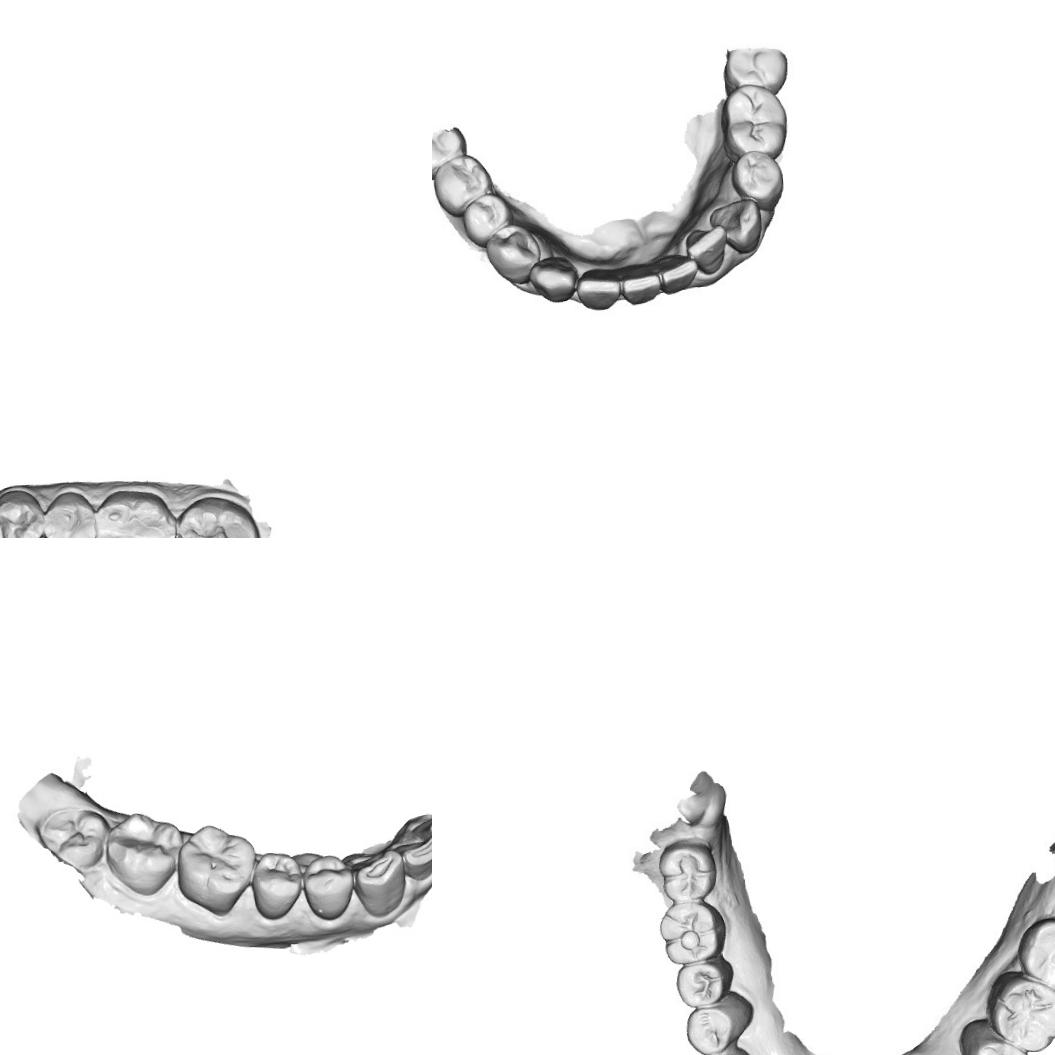canine: (350, 846, 408, 921), (523, 255, 579, 306), (712, 200, 764, 244)
incisor: (578, 262, 624, 310), (661, 251, 705, 297), (689, 229, 730, 272), (398, 832, 432, 882), (622, 264, 664, 304), (410, 802, 432, 853)
molar: (172, 822, 260, 920), (102, 808, 184, 898), (985, 965, 1055, 1055), (36, 803, 112, 870), (656, 899, 727, 966), (723, 84, 789, 156), (653, 836, 720, 906), (432, 146, 497, 217), (90, 486, 175, 538), (175, 493, 257, 538), (1016, 911, 1055, 993)
premolar: (246, 848, 305, 920), (300, 853, 356, 924), (488, 224, 539, 280), (683, 1002, 736, 1055), (460, 187, 511, 240), (676, 958, 730, 1008), (42, 489, 97, 538), (0, 488, 47, 538), (735, 154, 780, 200), (972, 1037, 1036, 1055)
